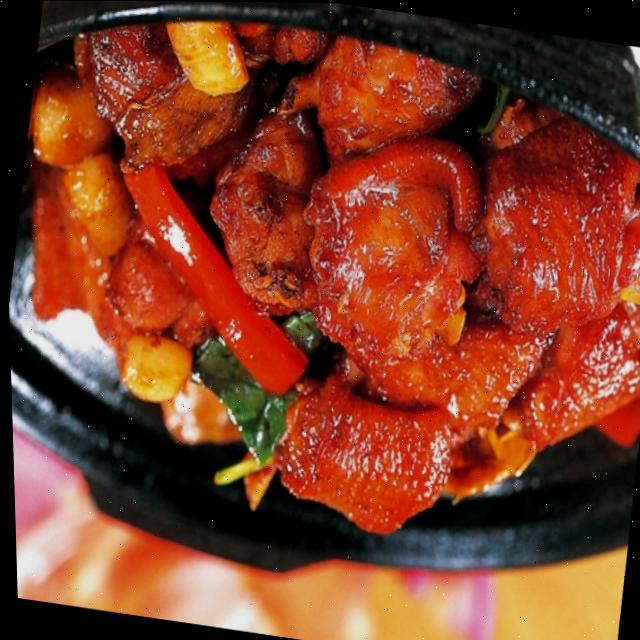鸡肉料理 含炸鸡: (0, 0, 640, 624)
